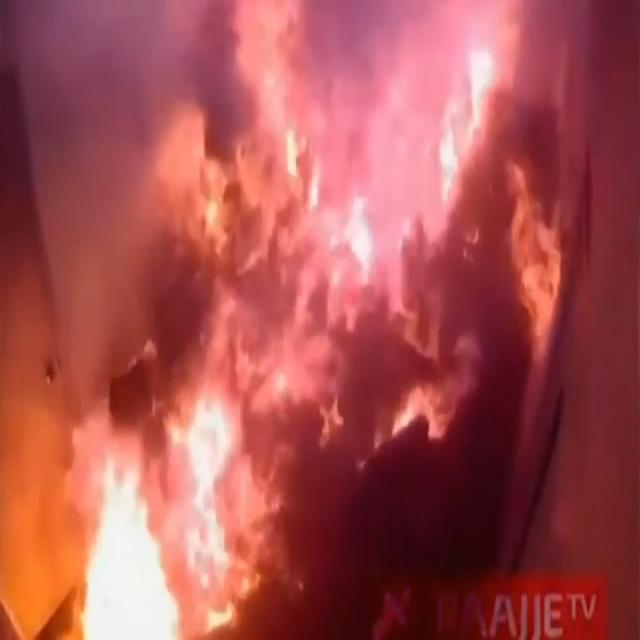Fire: (84, 280, 376, 639)
